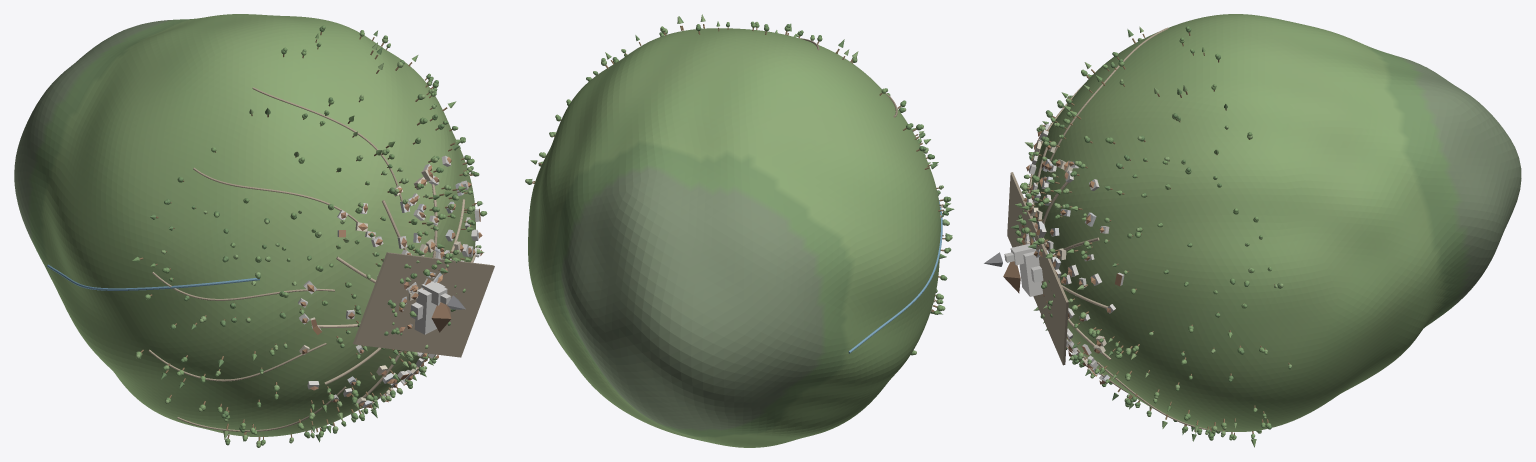
Rendered from san-pedro-globe-map-integrated.glb.
The picture shows the model from 3 angles, left to right: view 1: azimuth 30°, elevation 25°; view 2: azimuth 150°, elevation 25°; view 3: azimuth 270°, elevation 25°; orthographic projection.
Visible parts, largest first — view 1: world; view 2: world; view 3: world.
Part boxes in pixels (<box>): world: <box>14,14,494,447</box>; world: <box>525,14,954,447</box>; world: <box>984,14,1521,447</box>.
Bounding box in the file's own units: 21.03 × 20.94 × 26.07.
